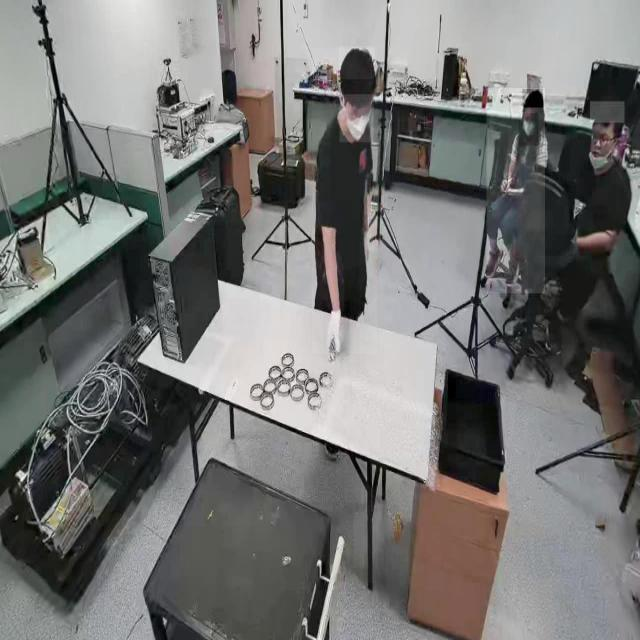gloves: (323, 301, 351, 363), (360, 230, 374, 266)
